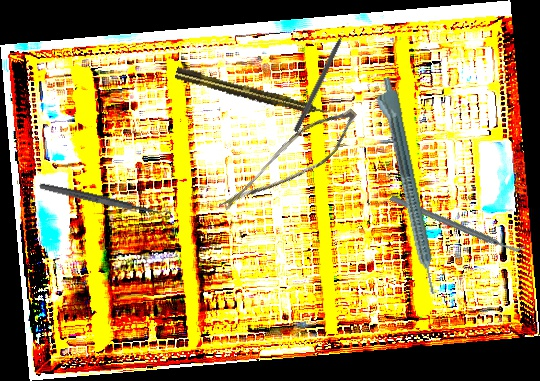Chopper: (388, 152, 527, 294)
Handpiece: (370, 75, 441, 298), (174, 65, 331, 121)
Hook Surgical: (292, 21, 353, 134)
Micro Scissor: (217, 87, 365, 240)
Surgical Spoon: (38, 181, 173, 221)
